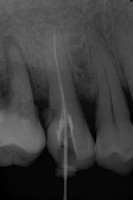Endo-Periodontal Lesion: (0, 35, 24, 111)
